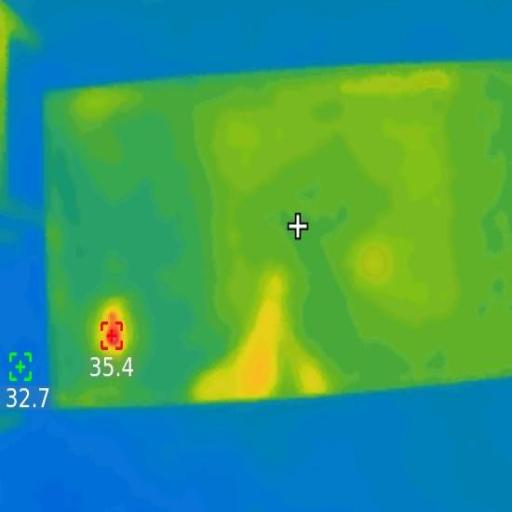hotspot: (102, 315, 124, 352)
